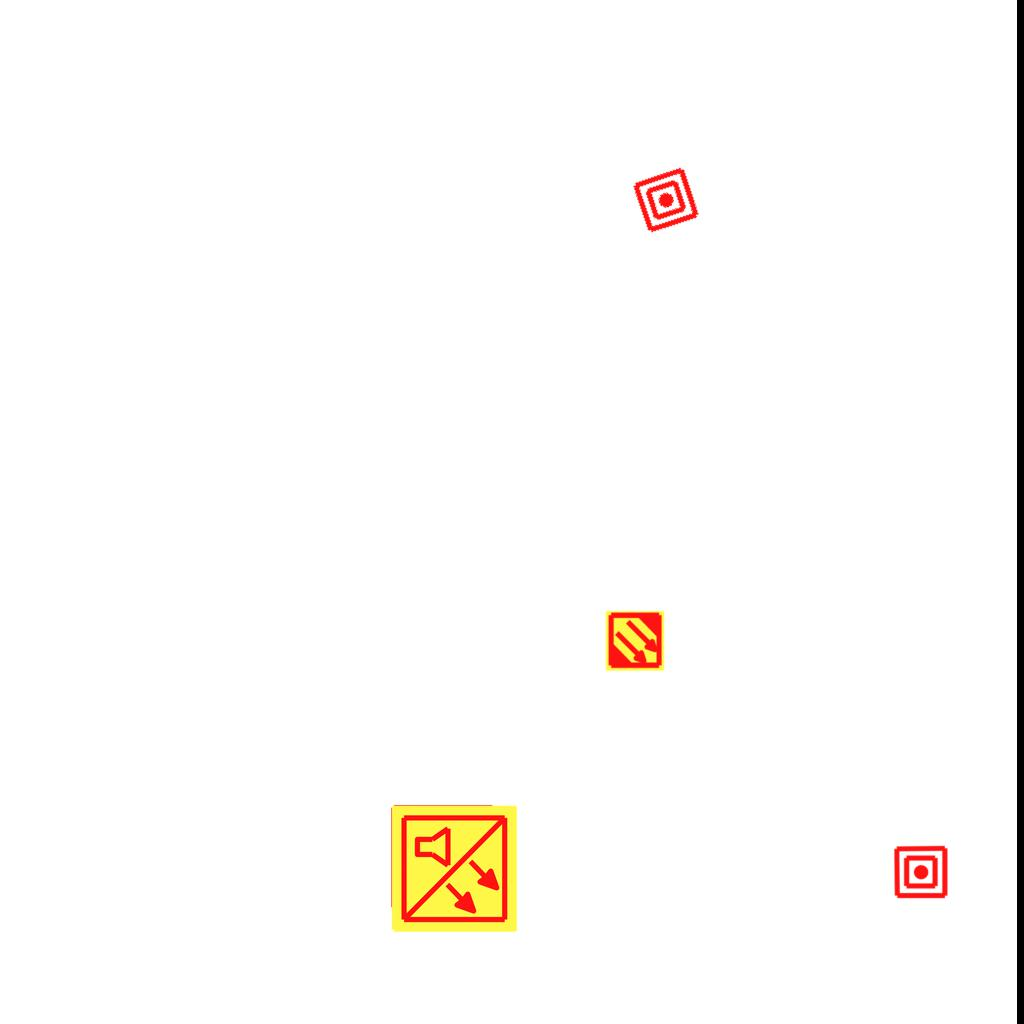ASR_Ansaugrauchmelder: (604, 610, 666, 672)
NAM-Nichtautomatischer_Melder: (630, 164, 702, 236), (893, 844, 949, 900)
OKW_Multisensormelder_(Kombination_optischer_Rauch-Kahlenmonoxid_Waerme-Melder): (388, 803, 520, 935)
